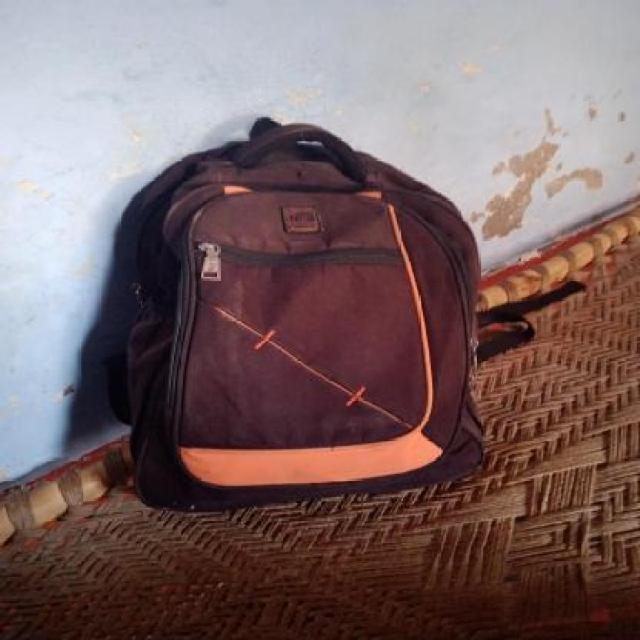backpack: (100, 114, 494, 517)
